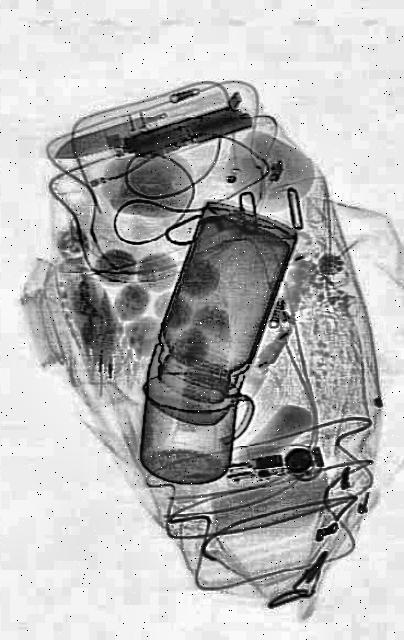Knife: (54, 109, 171, 170)
